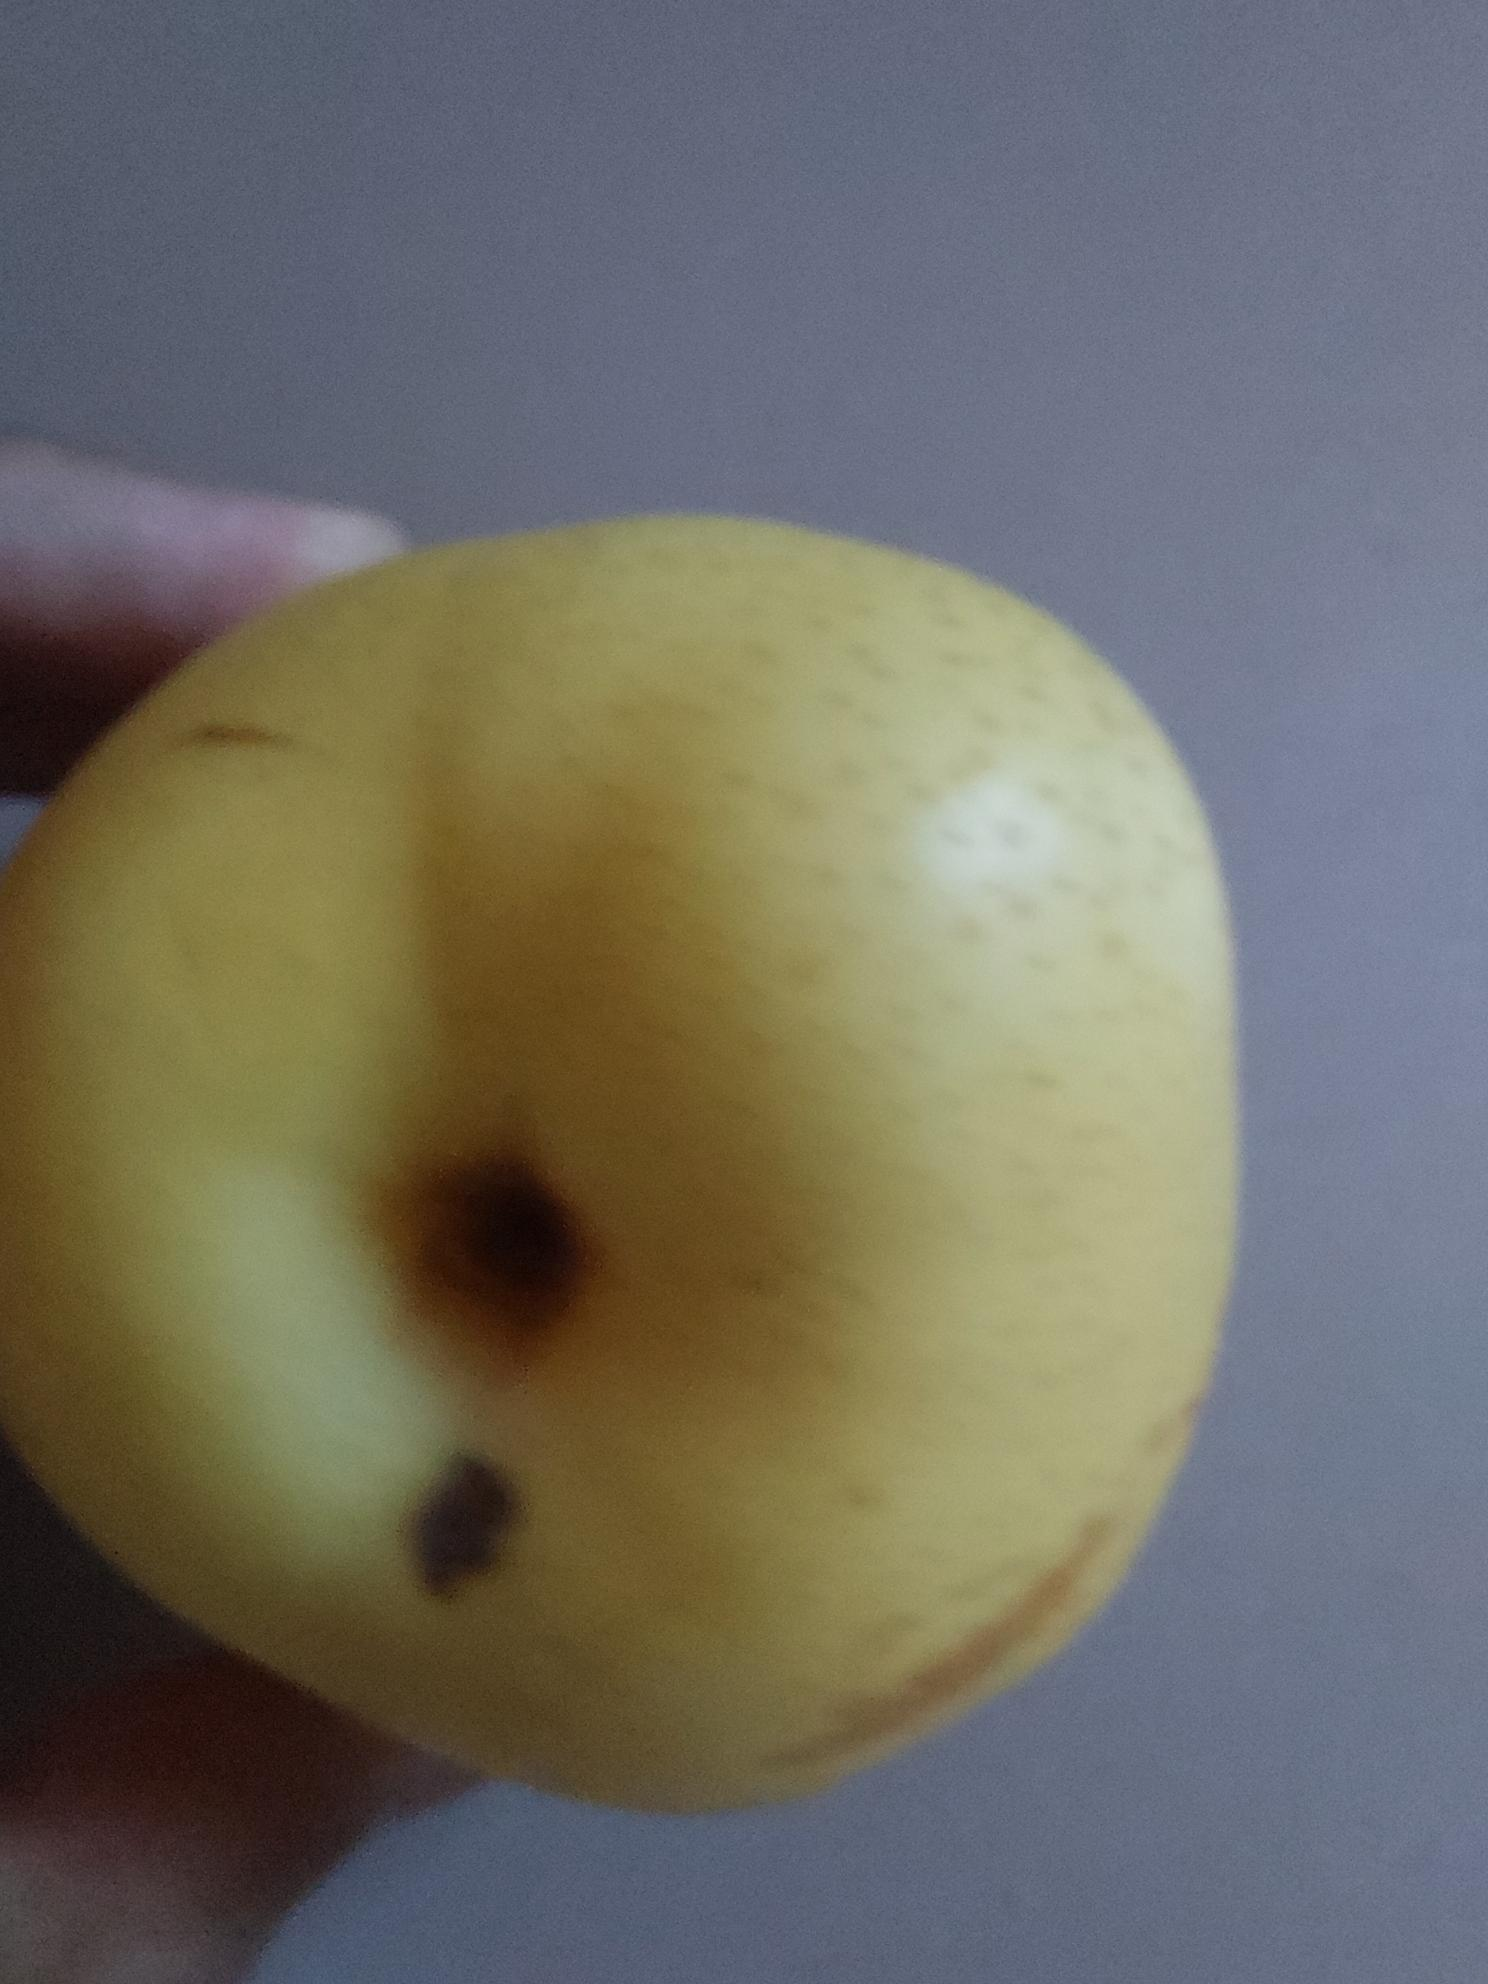Good Pear: (0, 515, 1242, 1813)
